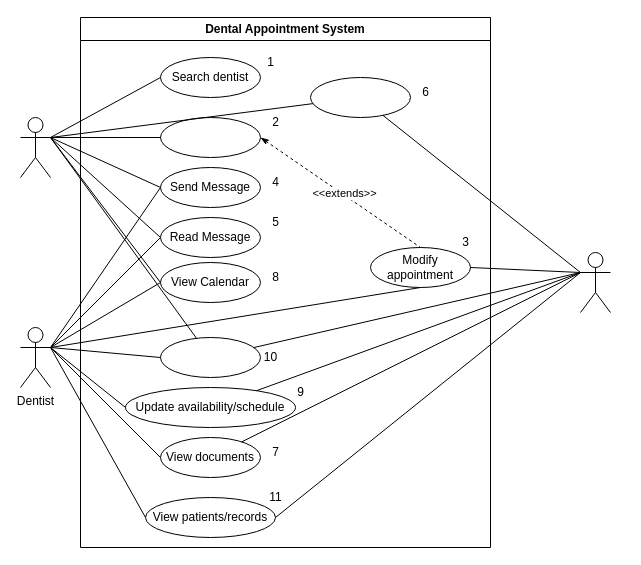
The diagram is 641 pixels wide and 565 high, and some of its shapes have lost their labels. The centre of each missing label's shape, as x and y in pixels:
"Book appointment" belongs at (x=210, y=137).
"Create/View Profile" belongs at (x=210, y=357).
"db/System" belongs at (x=595, y=282).
"Patient" belongs at (x=35, y=147).
"Upload documents" belongs at (x=360, y=97).
